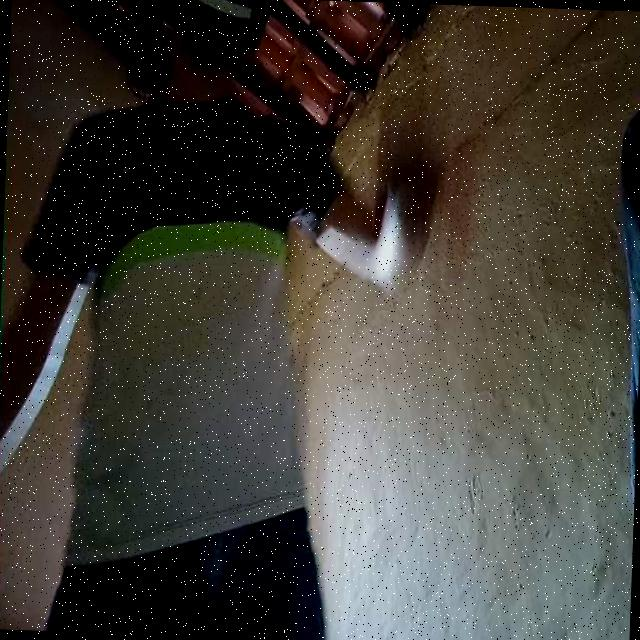capacete: (139, 0, 300, 69)
pessoa: (6, 43, 343, 640)
